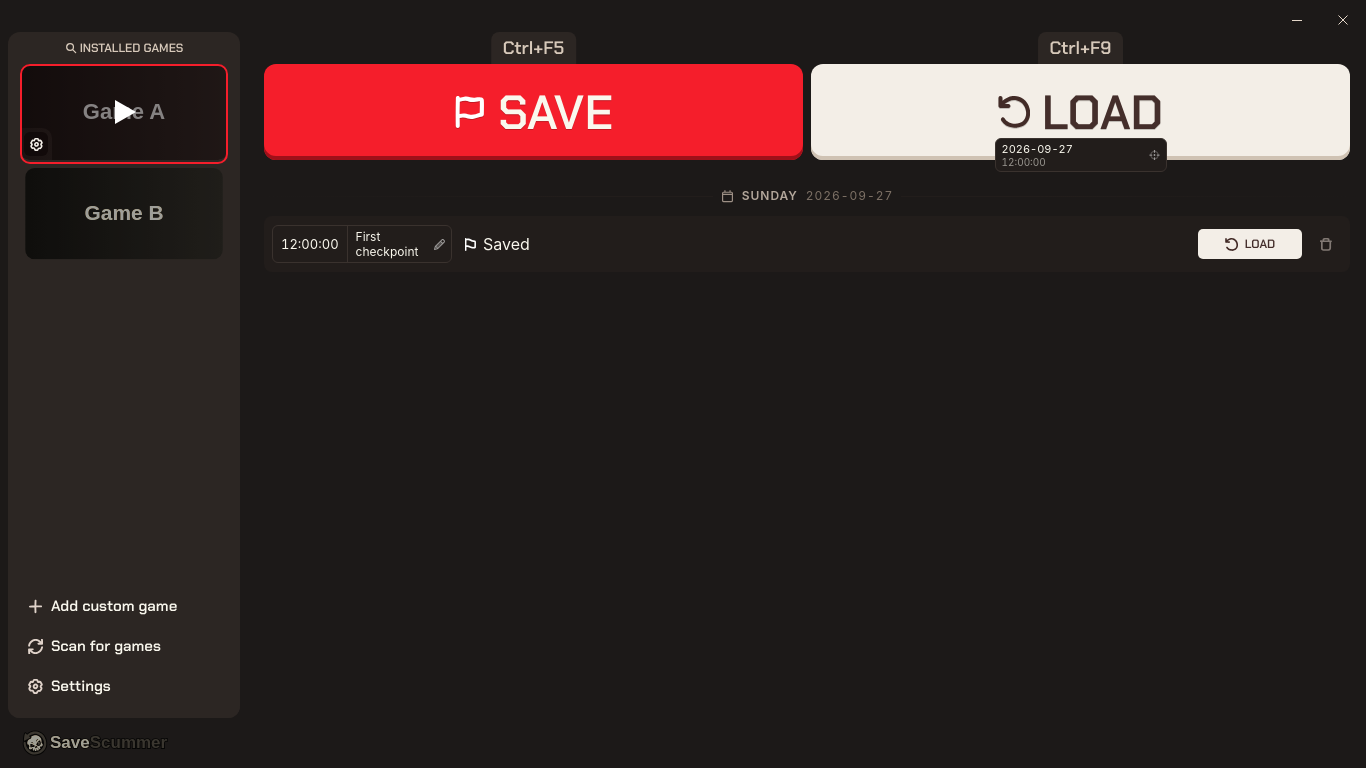
Scenario: Settings captures, saves, and shows host-owned shortcuts
The image size is (1366, 768).
Click the button "Settings" at (124, 686), box [20,666,228,706]
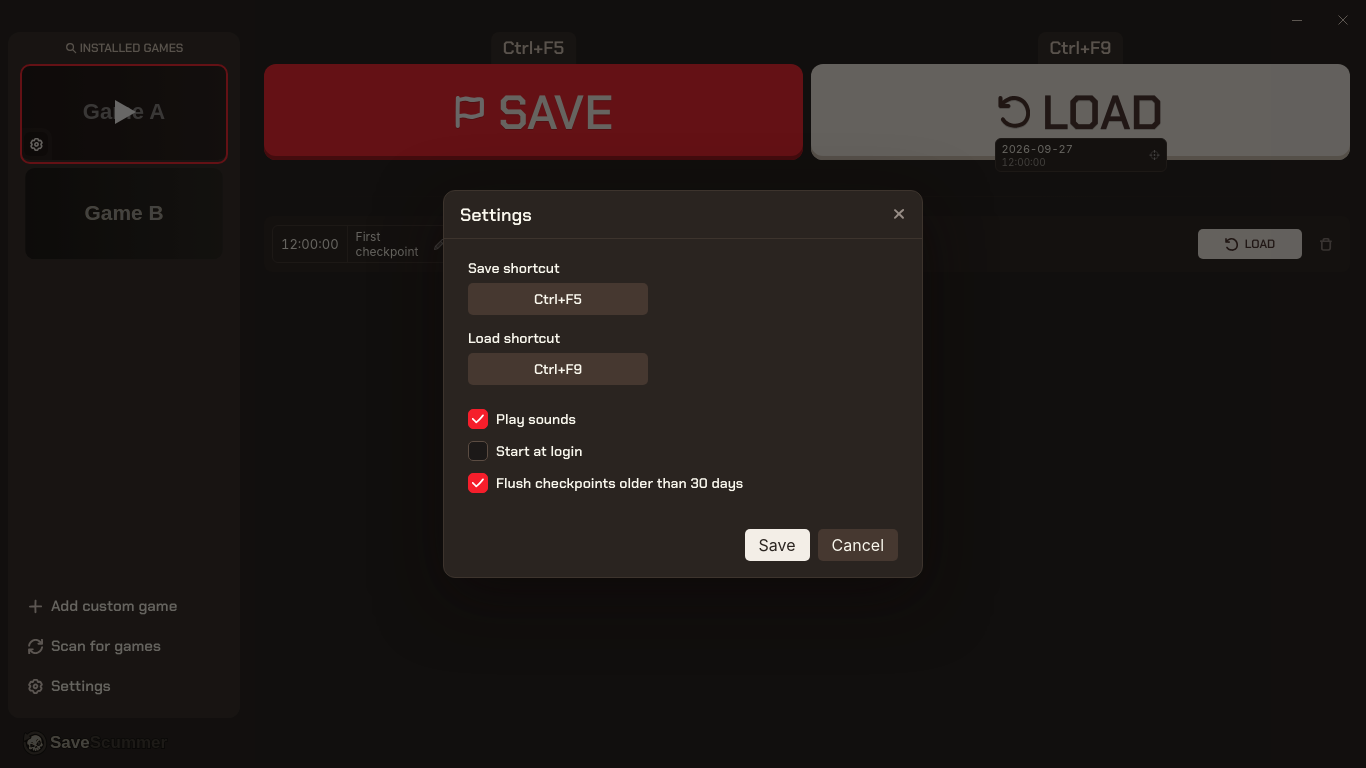
Click the button named "Save shortcut" at (558, 299), box [468,283,648,315]
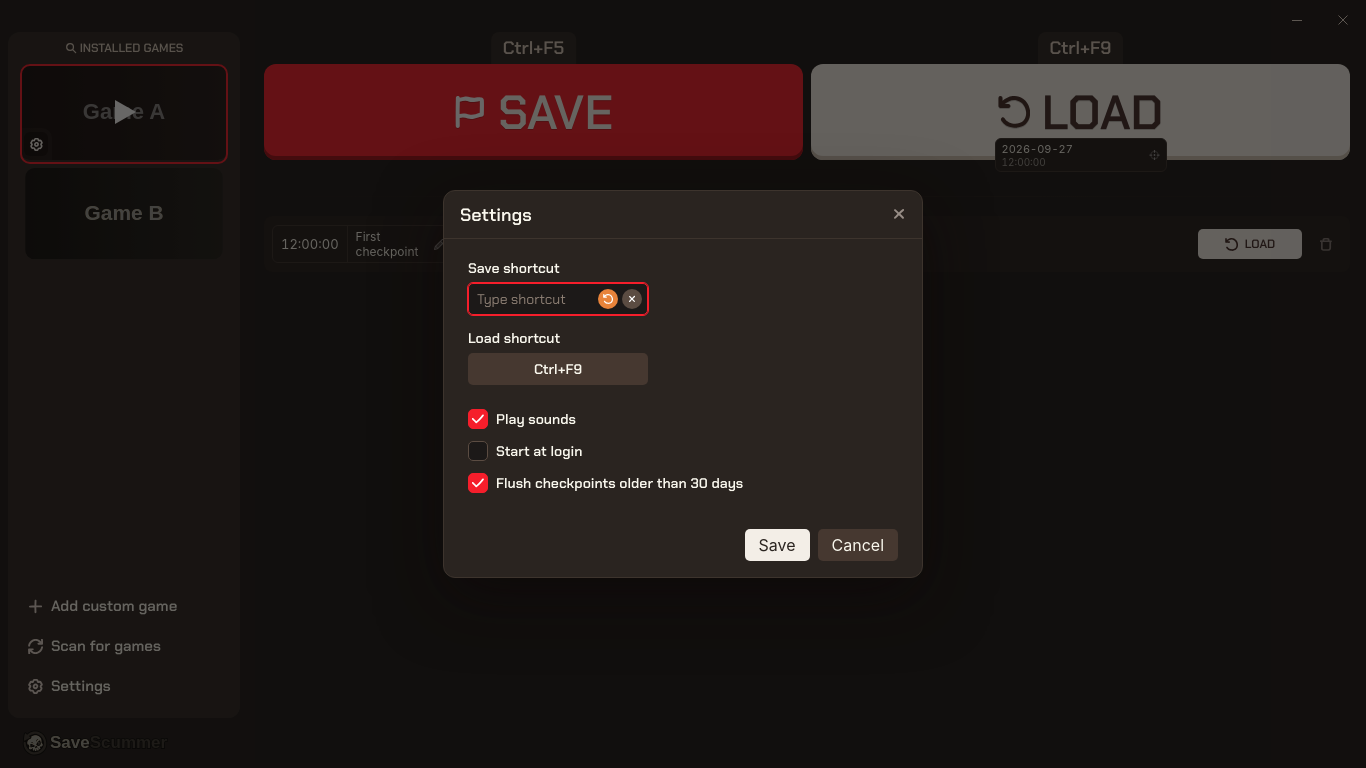
Press F6 in the field labelled "Save shortcut", box [468,283,648,315]
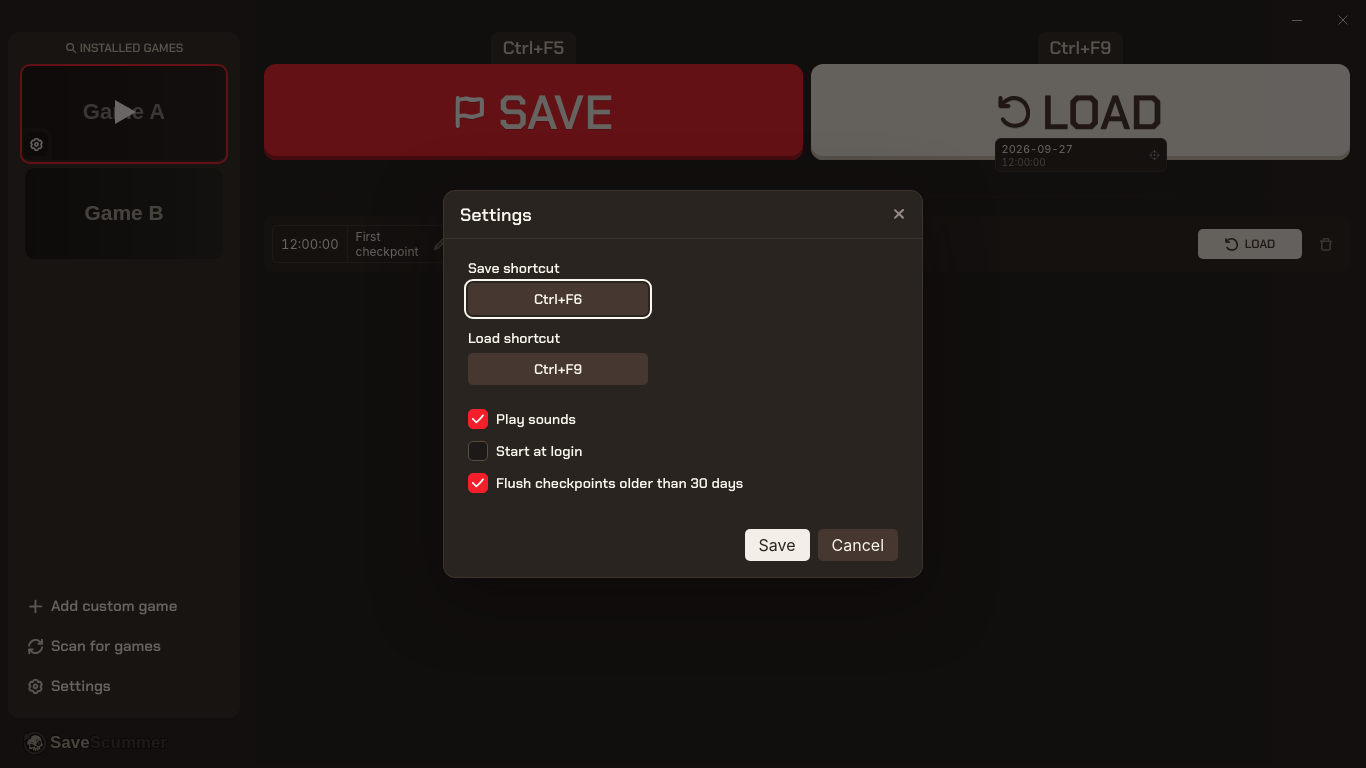
Check: the button named "Save shortcut" reads "Ctrl+F6", box [468,283,648,315]
Click the button "Save" at (777, 545), box [744,529,810,561]
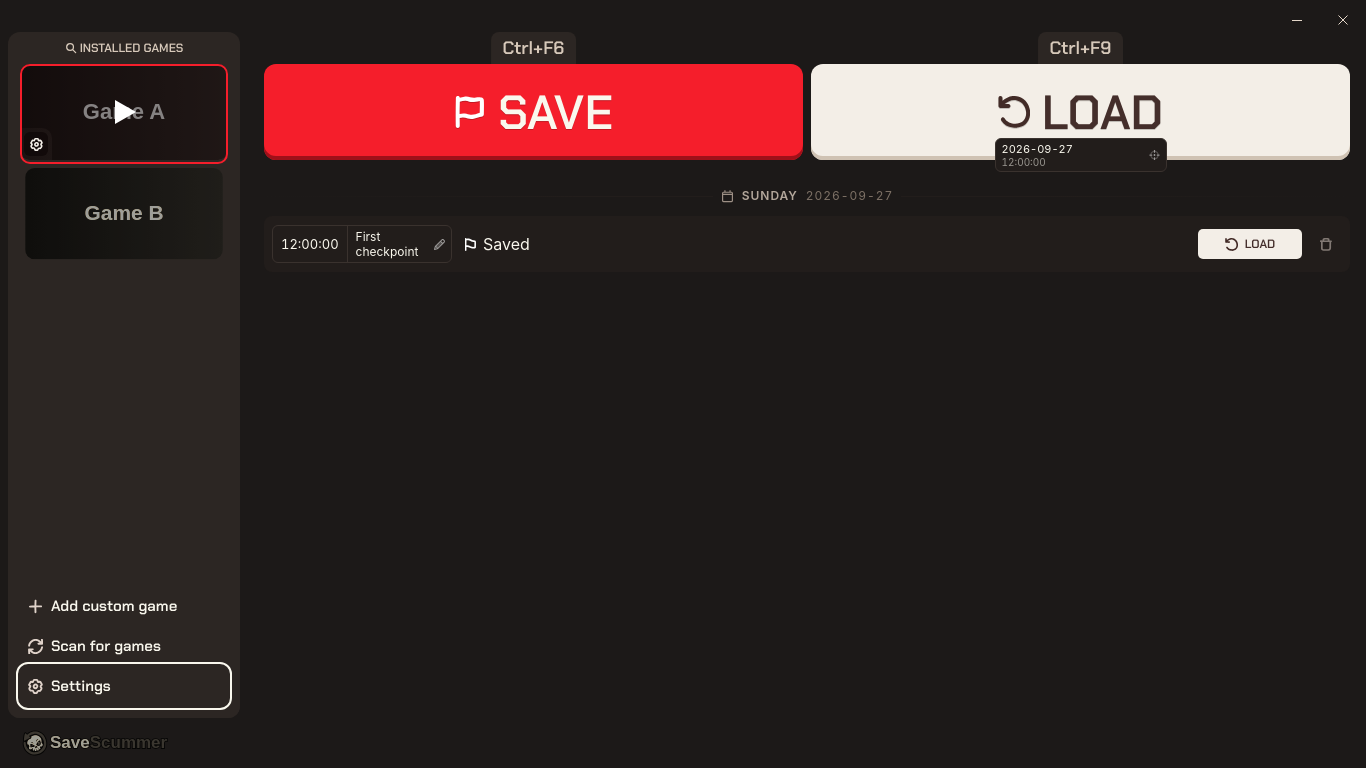
Check: the text "Ctrl+F6" is shown, box [491,32,576,72]
